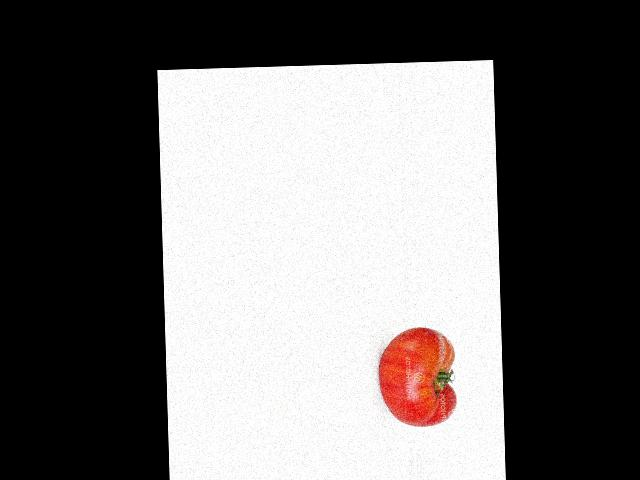tomato: (377, 326, 457, 427)
